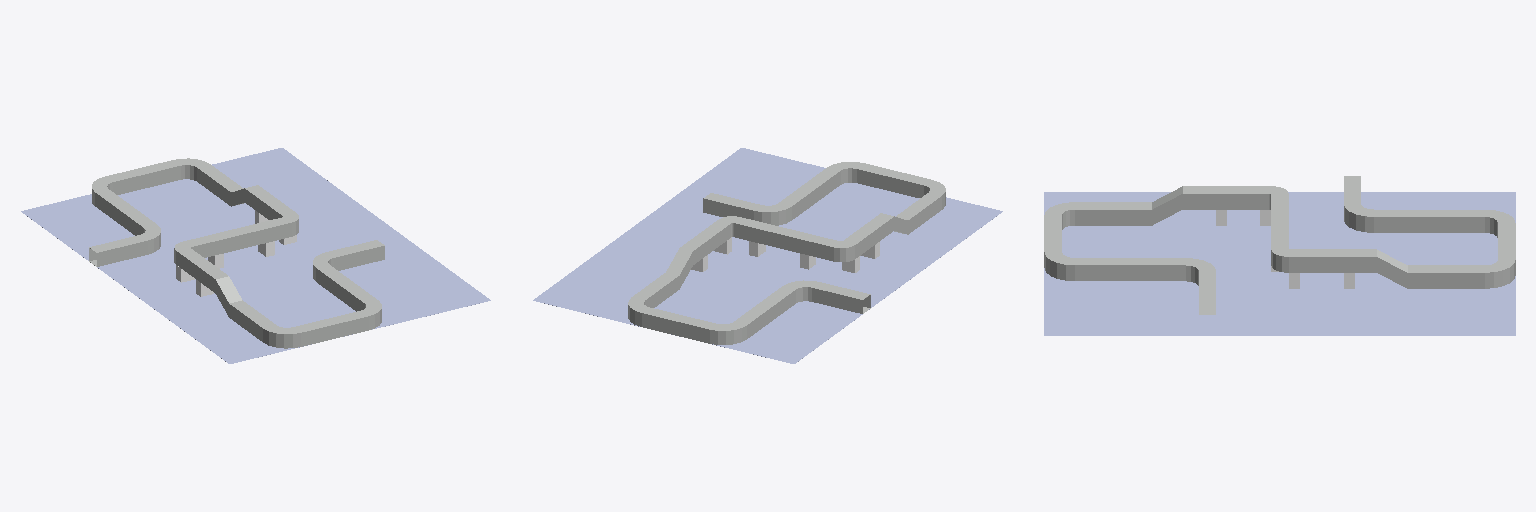
robot.urdf — piping_160_urdf:
<?xml version="1.0" encoding="utf-8"?>
<!-- This URDF was automatically created by SolidWorks to URDF Exporter! Originally created by [author] ([email redacted]) 
     Commit Version: 1.5.1-0-g916b5db  Build Version: 1.5.7152.31018
     For more information, please see http://wiki.ros.org/sw_urdf_exporter -->
<robot
  name="piping_160_urdf">
<gazebo reference="base_link">
    <mu1>0.5</mu1>
    <mu2>0.5</mu2>
    <material>Gazebo/Turquoise</material>
  </gazebo> 
    <gazebo reference="piping_link">
    <mu1>0.6</mu1>
    <mu2>0.6</mu2>
    <material>Gazebo/GreyTransparent</material>
  </gazebo> 
    <gazebo reference="holder_Link">
    <mu1>0.5</mu1>
    <mu2>0.5</mu2>
    <material>Gazebo/CoM</material>
  </gazebo> 
  <link
    name="base_link">
    <inertial>
      <origin
        xyz="5.2996 -1.5925 1.9158"
        rpy="0 0 0" />
      <mass
        value="13206" />
      <inertia
        ixx="2010500"
        ixy="8.4278E-15"
        ixz="6.0129E-10"
        iyy="3061000"
        iyz="2.6991E-14"
        izz="1050500" />
    </inertial>
    <visual>
      <origin
        xyz="0 0 0"
        rpy="0 0 0" />
      <geometry>
        <mesh
          filename="package://piping_160_urdf/meshes/base_link.STL" />
      </geometry>
      <material
        name="">
        <color
          rgba="0.79216 0.81961 0.93333 1" />
      </material>
    </visual>
    <collision>
      <origin
        xyz="0 0 0"
        rpy="0 0 0" />
      <geometry>
        <mesh
          filename="package://piping_160_urdf/meshes/base_link.STL" />
      </geometry>
    </collision>
  </link>
  <link
    name="piping_link">
    <inertial>
      <origin
        xyz="13.2 1.2564 5.7713"
        rpy="0 0 0" />
      <mass
        value="11155" />
      <inertia
        ixx="569180"
        ixy="-1.4188E-10"
        ixz="-27669"
        iyy="981010"
        iyz="4.0745E-10"
        izz="432360" />
    </inertial>
    <visual>
      <origin
        xyz="0 0 0"
        rpy="0 0 0" />
      <geometry>
        <mesh
          filename="package://piping_160_urdf/meshes/piping_link.STL" />
      </geometry>
      <material
        name="">
        <color
          rgba="0.8 0.80784 0.8 1" />
      </material>
    </visual>
    <collision>
      <origin
        xyz="0 0 0"
        rpy="0 0 0" />
      <geometry>
        <mesh
          filename="package://piping_160_urdf/meshes/piping_link.STL" />
      </geometry>
    </collision>
  </link>
  <joint
    name="piping"
    type="fixed">
    <origin
      xyz="16.252 -7.687 -1.5875"
      rpy="1.5708 0 3.1416" />
    <parent
      link="base_link" />
    <child
      link="piping_link" />
    <axis
      xyz="0 0 0" />
  </joint>
  <link
    name="holder_Link">
    <inertial>
      <origin
        xyz="6.9667 0.8 -5.4667"
        rpy="0 0 0" />
      <mass
        value="15360" />
      <inertia
        ixx="5222.4"
        ixy="6.5725E-14"
        ixz="5.0567E-14"
        iyy="4556.8"
        iyz="1.0814E-13"
        izz="5888" />
    </inertial>
    <visual>
      <origin
        xyz="0 0 0"
        rpy="0 0 0" />
      <geometry>
        <mesh
          filename="package://piping_160_urdf/meshes/holder_Link.STL" />
      </geometry>
      <material
        name="">
        <color
          rgba="1 1 1 1" />
      </material>
    </visual>
    <collision>
      <origin
        xyz="0 0 0"
        rpy="0 0 0" />
      <geometry>
        <mesh
          filename="package://piping_160_urdf/meshes/holder_Link.STL" />
      </geometry>
    </collision>
  </link>
  <joint
    name="holder"
    type="fixed">
    <origin
      xyz="-3.7484 -7.2158 -1.5875"
      rpy="1.5708 0 0" />
    <parent
      link="base_link" />
    <child
      link="holder_Link" />
    <axis
      xyz="0 0 0" />
  </joint>
</robot>

--- Render facts (derived) ---
The picture shows the robot from 3 angles, left to right: view 1: azimuth 30°, elevation 25°; view 2: azimuth 150°, elevation 25°; view 3: azimuth 270°, elevation 25°; orthographic projection.
Robot: piping_160_urdf — 3 links, 2 joints (2 fixed); root link base_link; default pose: all joints at 0.
Visible links, largest first — view 1: base_link, piping_link, holder_Link; view 2: base_link, piping_link, holder_Link; view 3: base_link, piping_link, holder_Link.
Boxes of the visible links, <box> form: base_link: <box>21,148,490,363</box>; piping_link: <box>89,158,384,348</box>; holder_Link: <box>176,210,296,296</box>; base_link: <box>533,148,1002,363</box>; piping_link: <box>628,162,945,344</box>; holder_Link: <box>691,237,879,272</box>; base_link: <box>1044,192,1515,335</box>; piping_link: <box>1044,176,1515,314</box>; holder_Link: <box>1216,210,1354,288</box>.
Size in the robot's own frame: 30.9 by 42.74 by 3.21 metres.
3 mesh visuals loaded from 3 distinct referenced files (3 binary STL).